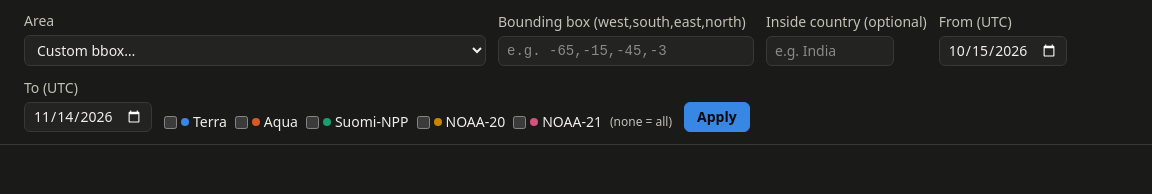
Test: AreaBar › rejects an invalid radius without saving anything
The width and height of the screenshot is (1152, 194).
Select "Point + radius (km)…" in the dropdown named "Saved or example area" at (255, 50), box left=24, top=35, right=486, bottom=66
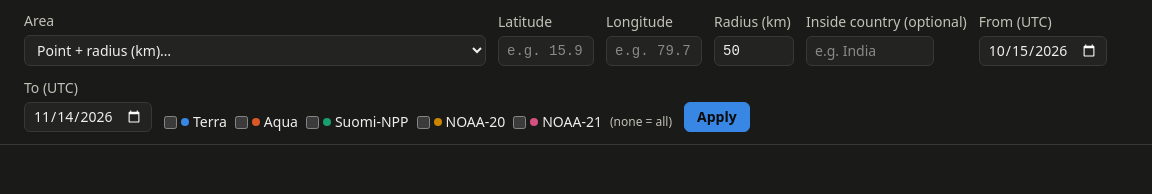
Type "15.9" into the field labelled "Latitude" at (546, 51), box left=498, top=36, right=594, bottom=66
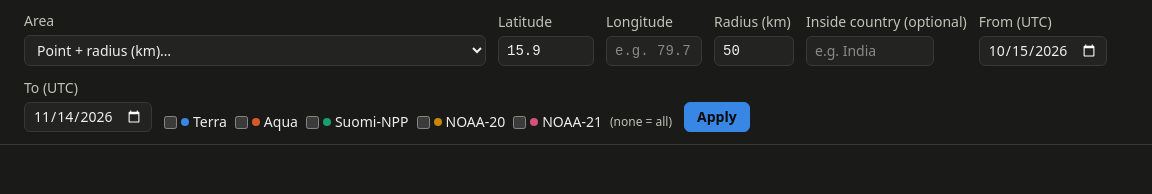
Type "79.7" into the field labelled "Longitude" at (654, 51), box left=606, top=36, right=702, bottom=66
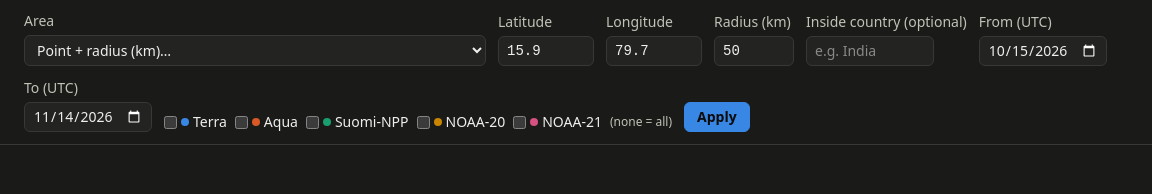
Replace the text in the field named "Radius in km" with "5000" at (754, 51), box left=714, top=36, right=794, bottom=66
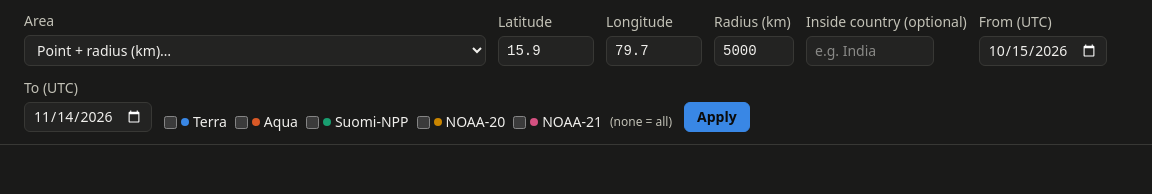
Click the button "Apply" at (717, 117), box left=684, top=102, right=750, bottom=132
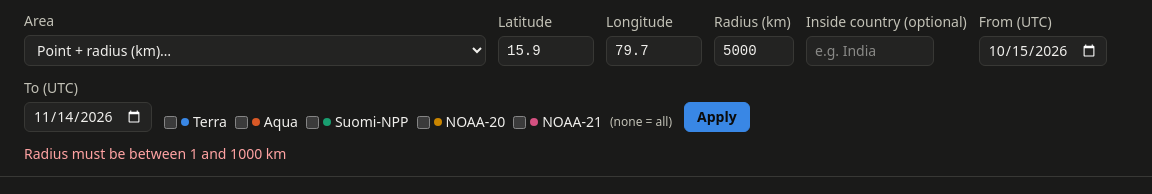
Check: the message reads "Radius must be between 1 and 1000 km", box left=24, top=144, right=286, bottom=163
